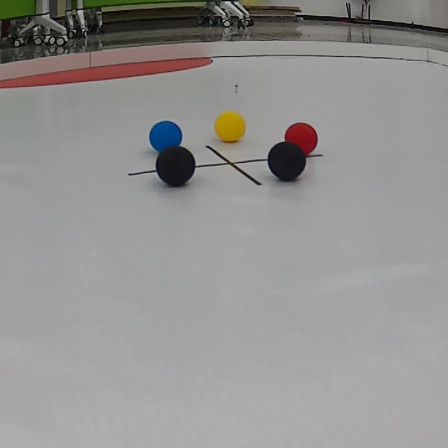black: (152, 149, 197, 186), (268, 142, 306, 184)
blue: (150, 120, 184, 151)
red: (287, 122, 321, 151)
red_base: (2, 53, 211, 83)
yellow: (213, 111, 250, 145)
